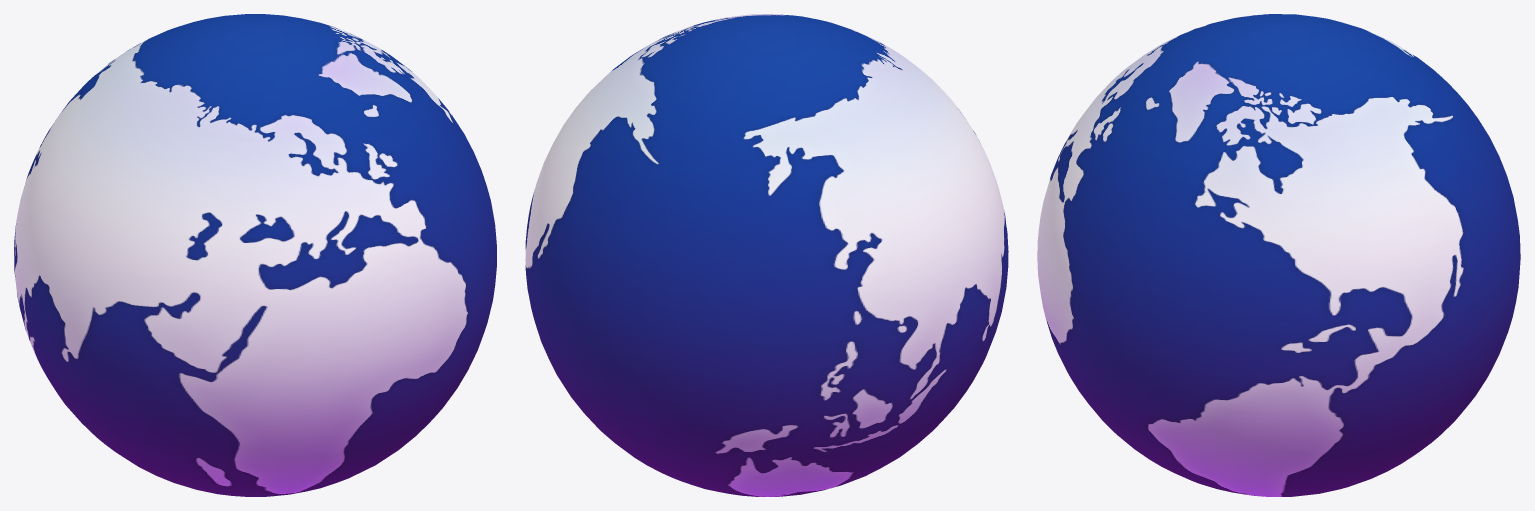
File: Globus.glb
3 renders of one model, left to right at view 1: azimuth 30°, elevation 25°; view 2: azimuth 150°, elevation 25°; view 3: azimuth 270°, elevation 25°, orthographic.
Visible parts, largest first — view 1: Globus; view 2: Globus; view 3: Globus.
Boxes of the visible parts, x1,y1,x2,y2 form: Globus: (14, 14, 496, 496); Globus: (525, 14, 1008, 496); Globus: (1037, 14, 1520, 496).
Size of the model in its own units: 13.79 by 13.79 by 13.79.
1 material, 1 textured.
